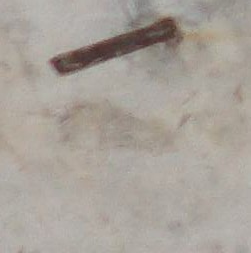Exposed reinforcement: (49, 16, 177, 77)
